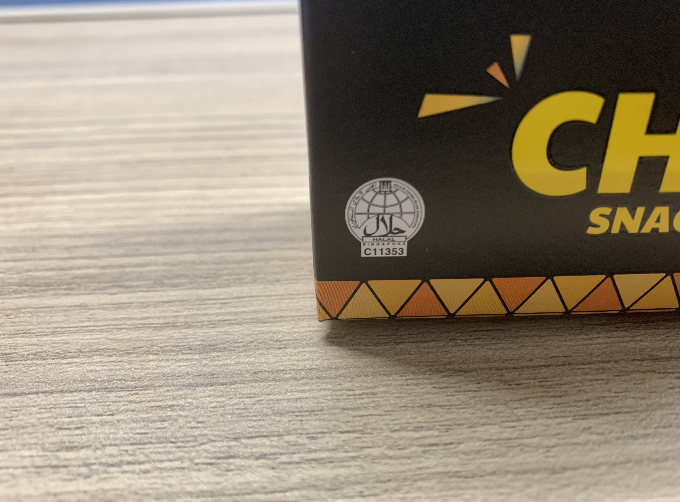halal: (355, 184, 419, 258)
